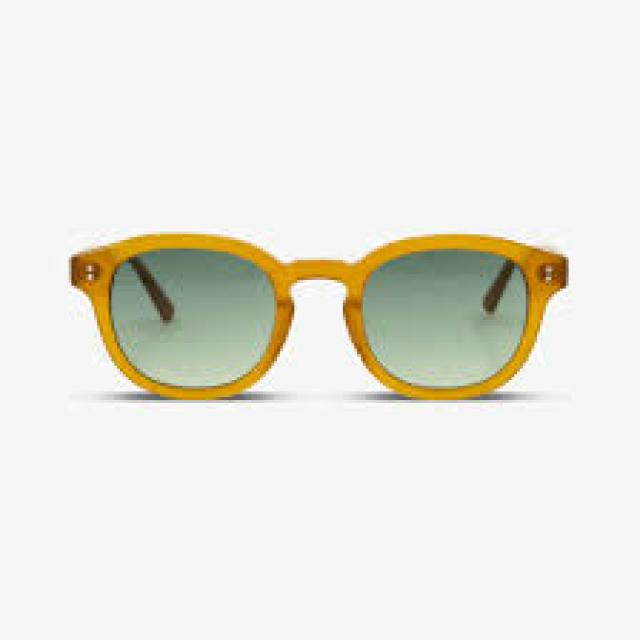sunglasses: (63, 222, 568, 407)
